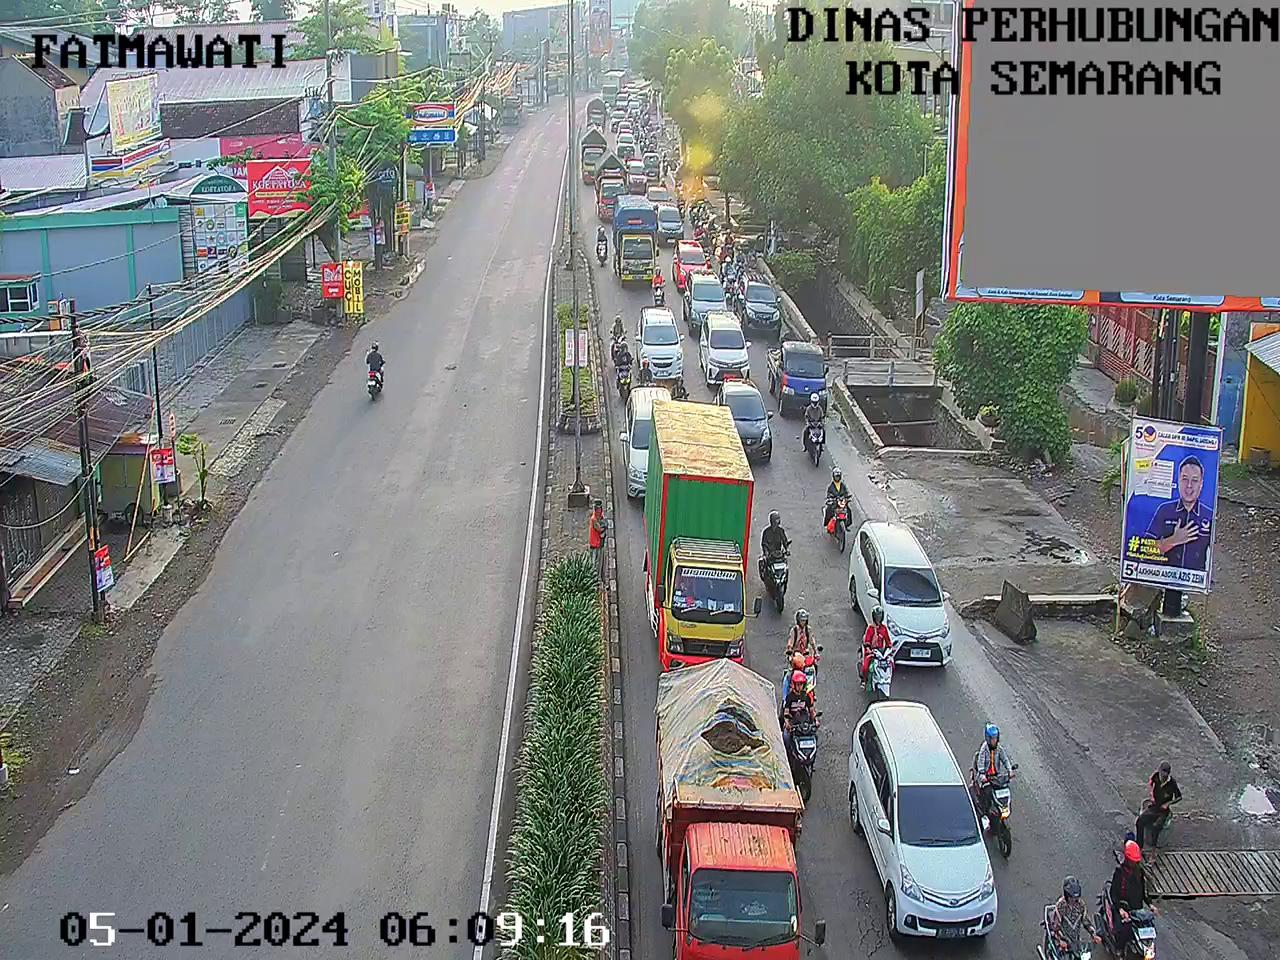car: (844, 688, 1006, 949), (848, 517, 959, 678), (620, 380, 684, 498), (763, 335, 833, 415), (715, 374, 774, 465), (697, 307, 757, 383), (638, 301, 689, 380), (680, 267, 727, 329), (739, 270, 782, 334), (671, 235, 711, 287), (658, 202, 686, 247), (625, 155, 647, 194), (645, 179, 673, 206), (642, 151, 663, 182), (616, 132, 636, 157), (609, 106, 629, 128), (615, 119, 636, 139), (615, 90, 630, 108), (636, 85, 648, 106), (630, 87, 642, 102), (626, 78, 637, 91)
motorcycle: (965, 710, 1022, 861), (1096, 830, 1161, 959), (1027, 867, 1101, 960), (854, 604, 906, 708), (783, 665, 825, 791), (757, 507, 801, 614), (783, 604, 826, 704), (820, 464, 859, 562), (799, 386, 833, 465), (608, 305, 635, 353), (650, 259, 674, 314), (613, 338, 634, 397), (596, 217, 612, 272), (636, 355, 658, 387), (670, 373, 691, 406), (720, 226, 736, 258), (723, 273, 737, 308), (718, 256, 739, 277), (705, 217, 719, 248), (744, 241, 758, 270), (692, 219, 708, 246), (733, 245, 748, 267), (677, 189, 688, 219), (698, 199, 710, 229), (689, 196, 700, 223), (660, 151, 671, 177), (703, 254, 715, 279), (623, 145, 636, 164), (642, 109, 651, 132), (650, 128, 659, 147), (634, 122, 641, 144), (640, 125, 647, 146), (659, 176, 669, 191), (647, 86, 655, 103), (647, 142, 657, 154), (632, 109, 639, 125), (647, 118, 654, 134)
truck: (646, 656, 816, 960), (643, 397, 759, 659), (613, 190, 658, 283), (594, 147, 630, 218), (580, 127, 610, 186), (598, 67, 624, 105), (588, 98, 611, 131)
